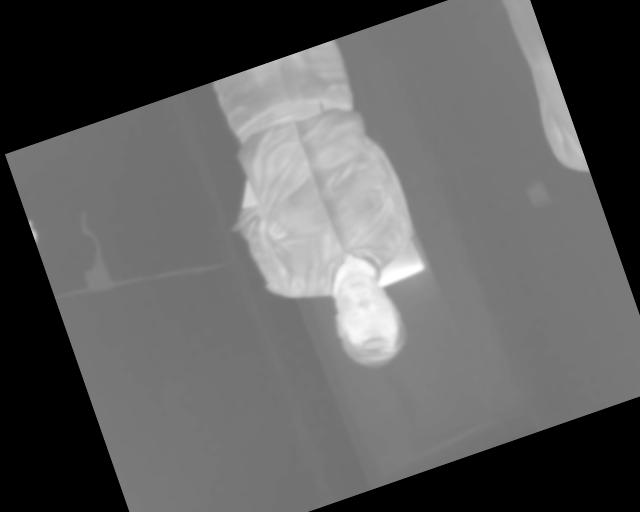face: (318, 263, 415, 377)
